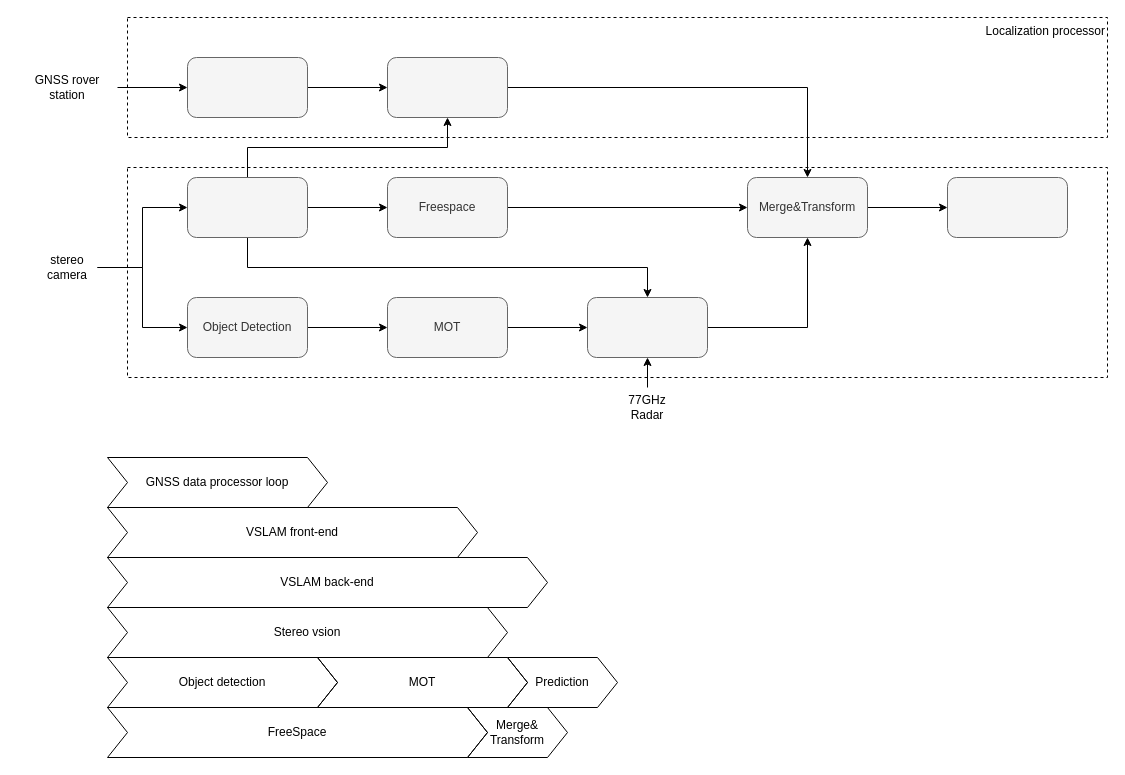
The diagram is 1125 pixels wide and 775 high, and some of its shapes have lost their labels. Here are the shapes that lost their labels. From the top down, the box of each, then its label:
(186, 56, 308, 118): RTK_GPS/IMU
(386, 56, 508, 118): VSLAM
(186, 176, 308, 238): Stereo Vision
(946, 176, 1068, 238): Publish perception rusult
(126, 166, 1108, 378): Perception processor
(586, 296, 708, 358): Behavior Prediction
